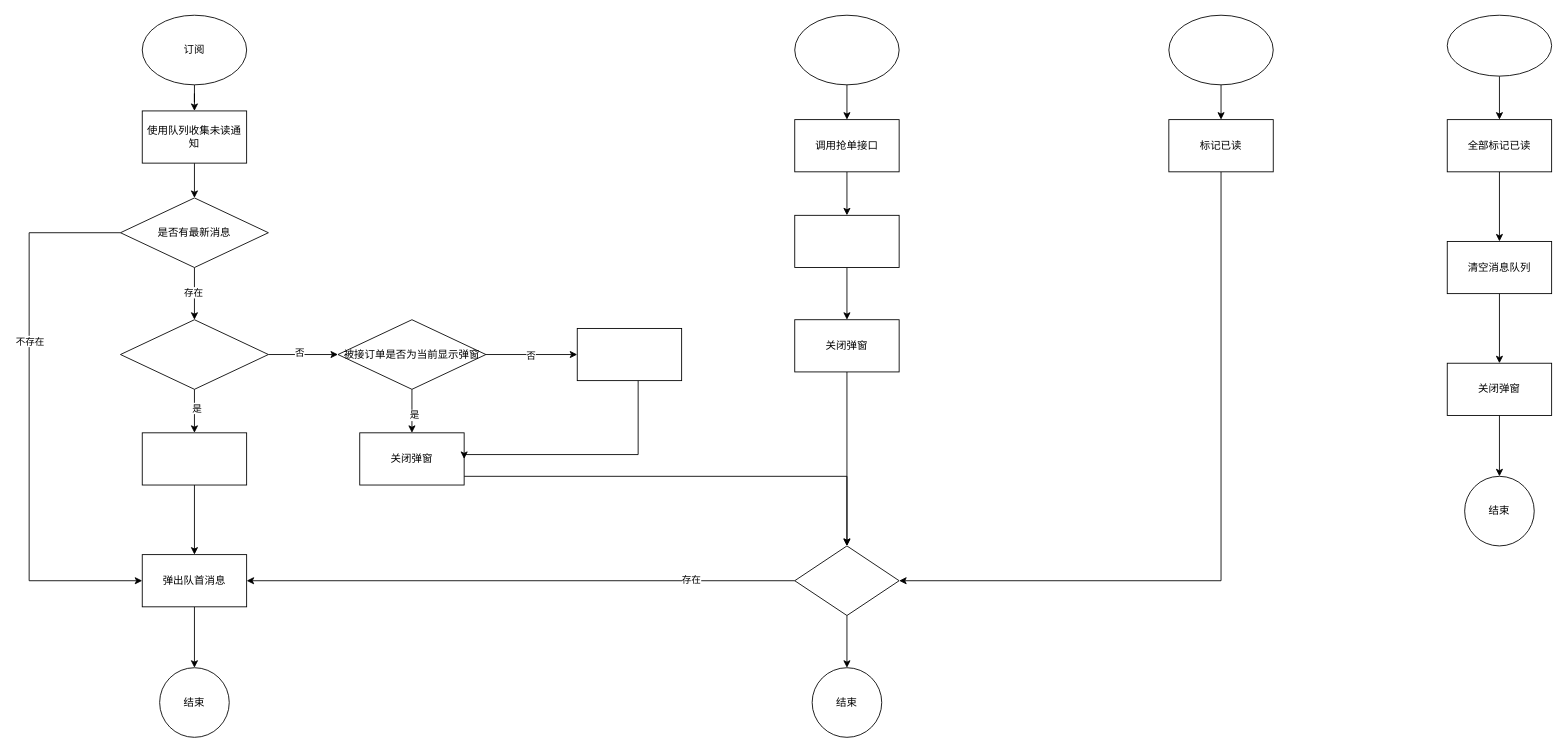
Some shapes in this 1567 by 753 pixel diagram are drawn without their labels. The centre of each missing label's shape, as x and y in pixels:
关闭: [1499,45]
切换: [1220,49]
抢单: [846,49]
是否为未处理消息: [194,354]
更新未读通知列表: [629,354]
标记当前通知为已读: [846,241]
检查未读通知: [846,580]
添加至未读消息队首: [194,458]
